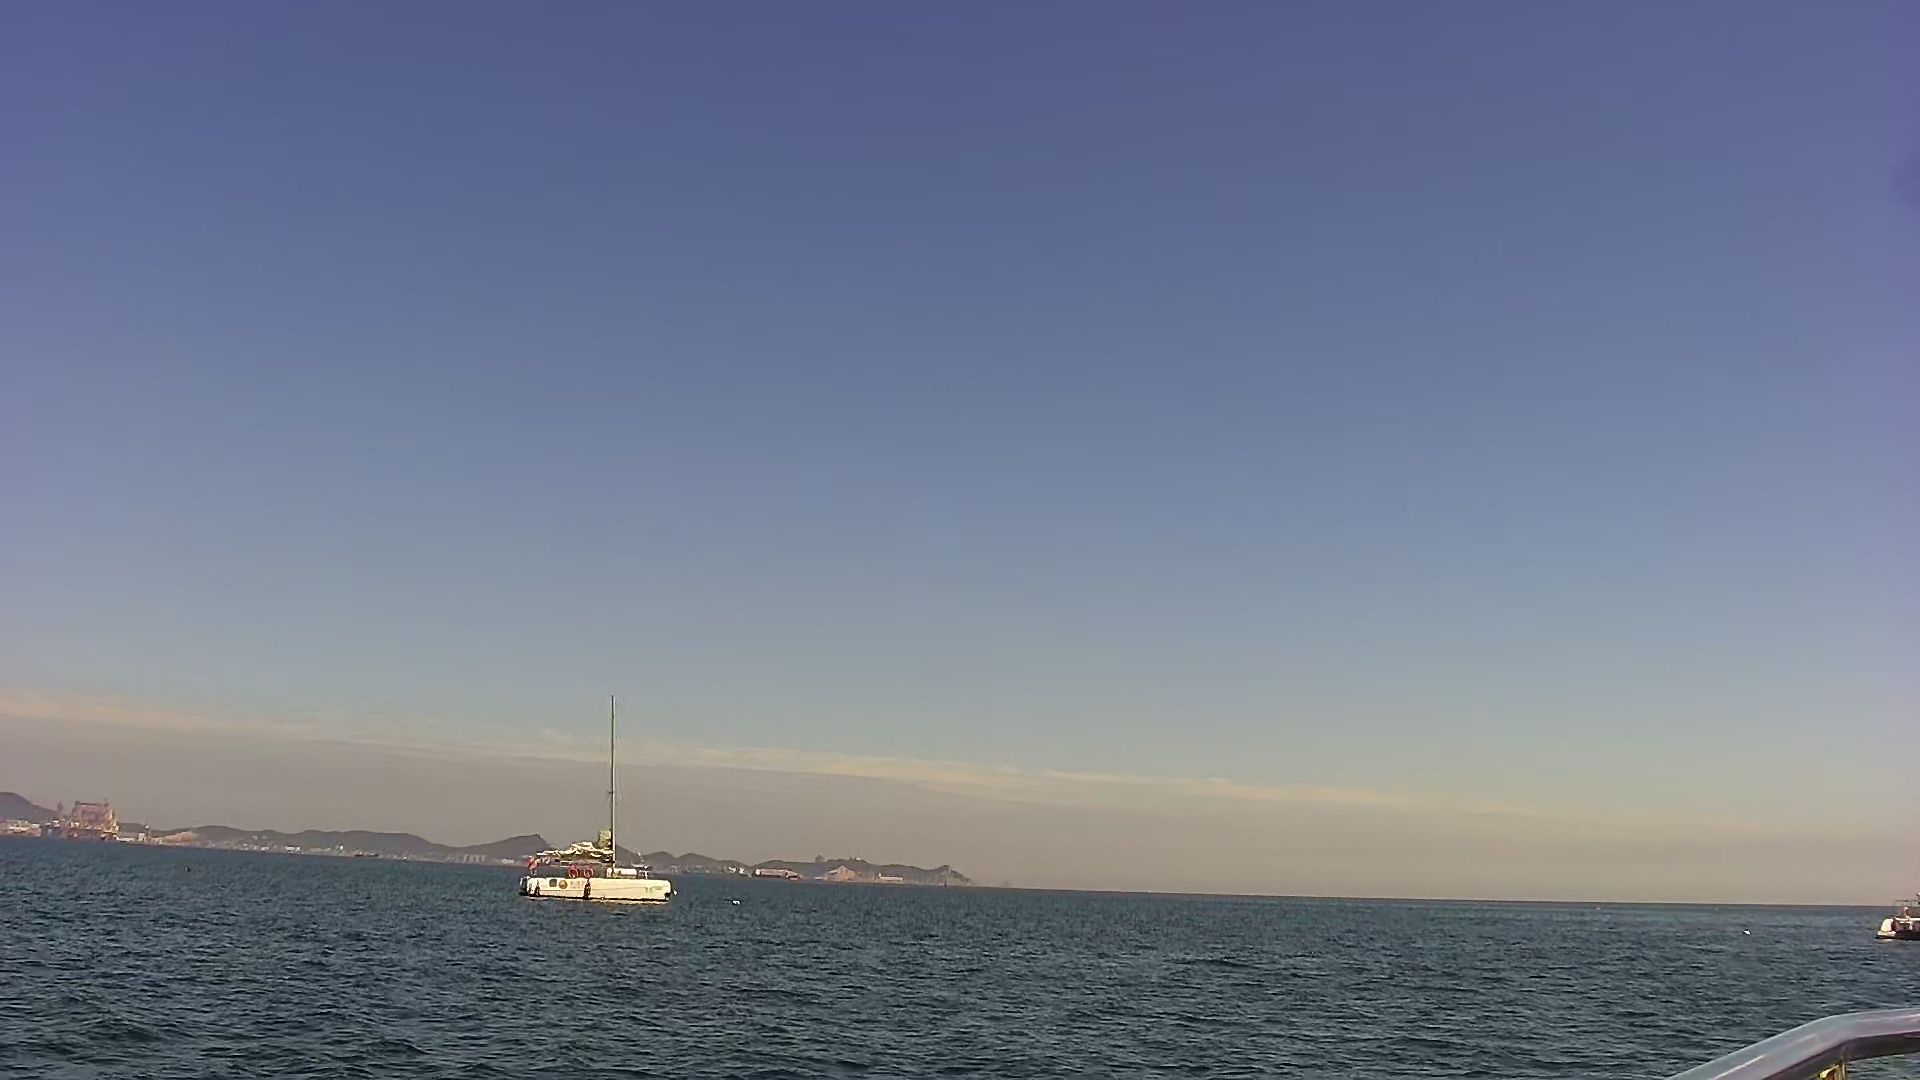boat: (520, 696, 671, 905)
